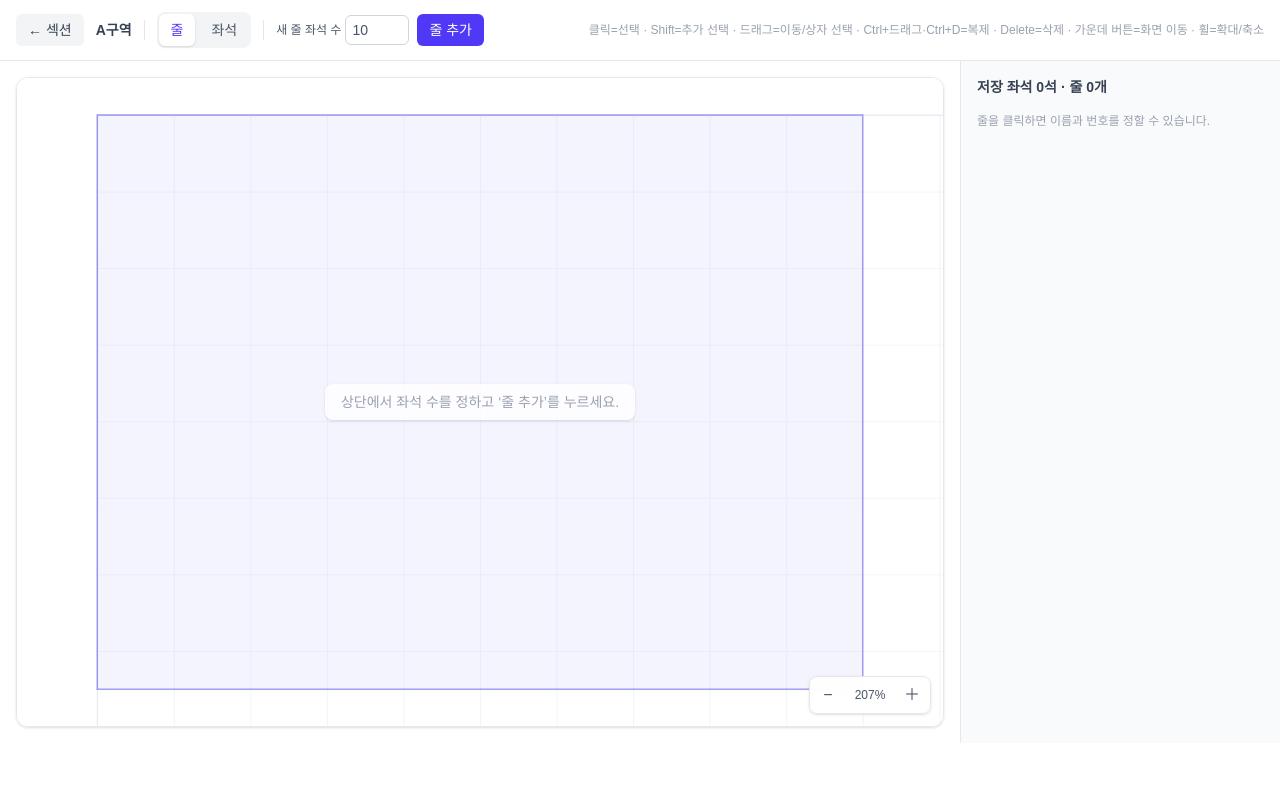
Test: 줄 추가 → 패널에 줄 입력칸, 요약 갱신
Replace the text in the number field labelled "새 줄 좌석 수" with "4" at (377,30), box [345,15,409,45]
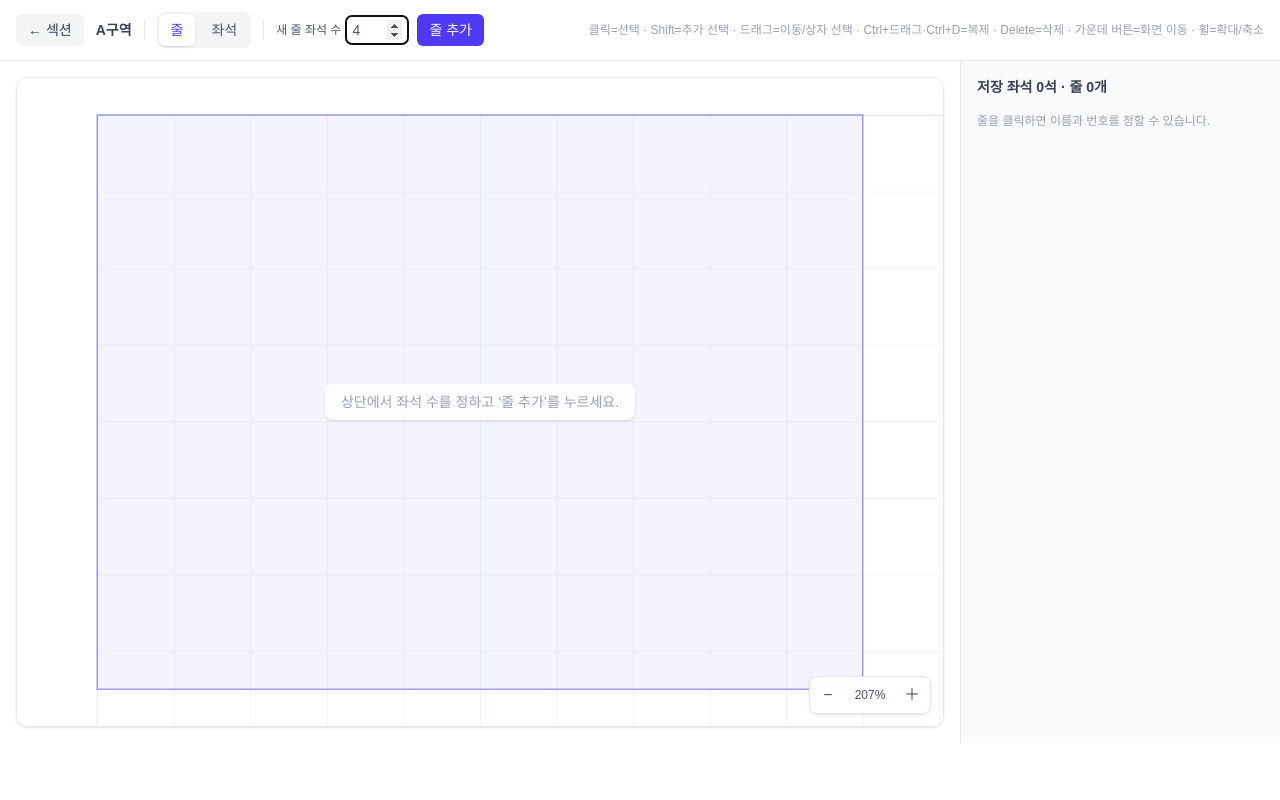
Click the button "줄 추가".
click(451, 30)  # box [417,14,484,46]
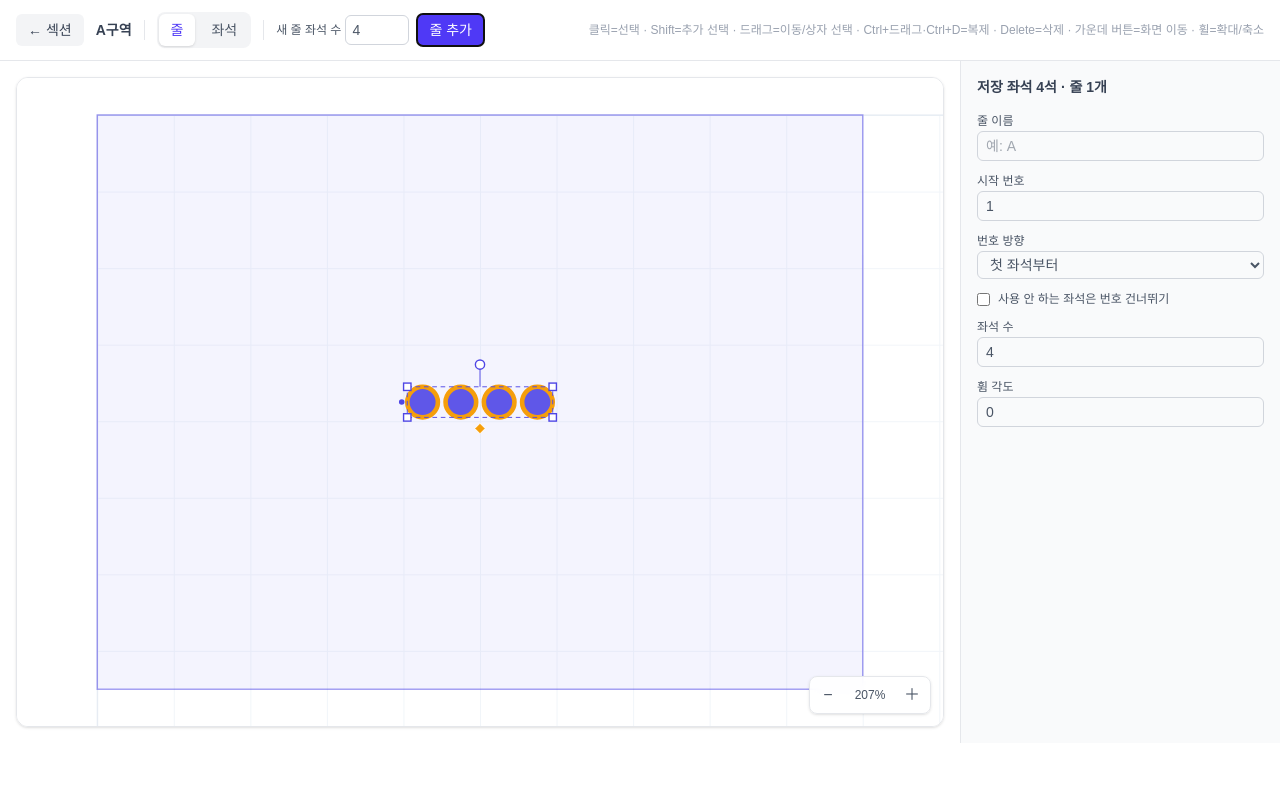
Expected: the field labelled "줄 이름" is shown, [977,131,1264,161]
Expected: the heading "저장 좌석 4석 · 줄 1개" is shown, [977,79,1107,95]
